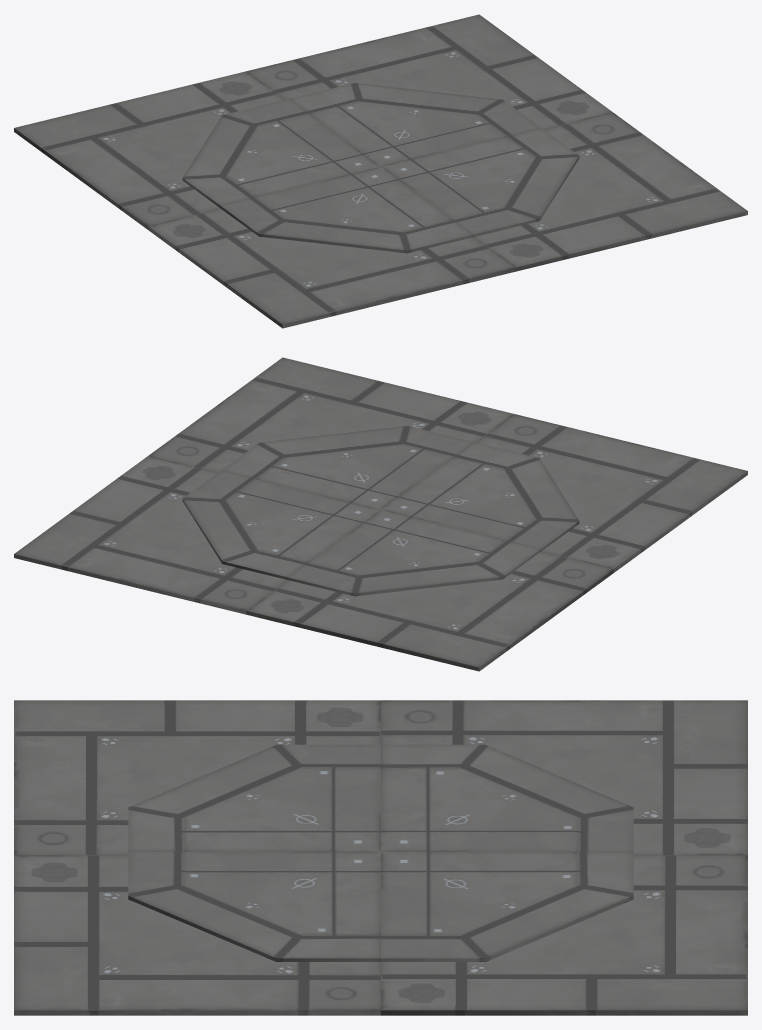
The model's file is Sci-Fi_Prefab_Var3.fbx.
3 renders of one model, top to bottom at view 1: azimuth 30°, elevation 25°; view 2: azimuth 150°, elevation 25°; view 3: azimuth 270°, elevation 25°, orthographic. The views are drawn at different scales.
Parts seen in each view (by area): view 1: ProjectRG_Environment_Sci-Fi_SquarePlatform.001, ProjectRG_Environment_Sci-Fi_SquarePlatform.002, ProjectRG_Environment_Sci-Fi_SquarePlatform.004, ProjectRG_Environment_Sci-Fi_SquarePlatform.003, ProjectRG_Environment_Sci-Fi_OctagonPlatform.013, ProjectRG_Environment_Sci-Fi_OctagonPlatform.014, ProjectRG_Environment_Sci-Fi_OctagonPlatform.016, ProjectRG_Environment_Sci-Fi_OctagonPlatform.015; view 2: ProjectRG_Environment_Sci-Fi_SquarePlatform.004, ProjectRG_Environment_Sci-Fi_SquarePlatform.003, ProjectRG_Environment_Sci-Fi_SquarePlatform.001, ProjectRG_Environment_Sci-Fi_SquarePlatform.002, ProjectRG_Environment_Sci-Fi_OctagonPlatform.016, ProjectRG_Environment_Sci-Fi_OctagonPlatform.015, ProjectRG_Environment_Sci-Fi_OctagonPlatform.013, ProjectRG_Environment_Sci-Fi_OctagonPlatform.014; view 3: ProjectRG_Environment_Sci-Fi_SquarePlatform.002, ProjectRG_Environment_Sci-Fi_SquarePlatform.003, ProjectRG_Environment_Sci-Fi_SquarePlatform.004, ProjectRG_Environment_Sci-Fi_SquarePlatform.001, ProjectRG_Environment_Sci-Fi_OctagonPlatform.014, ProjectRG_Environment_Sci-Fi_OctagonPlatform.015, ProjectRG_Environment_Sci-Fi_OctagonPlatform.013, ProjectRG_Environment_Sci-Fi_OctagonPlatform.016.
Boxes of the visible parts, bbox=[...] form: ProjectRG_Environment_Sci-Fi_SquarePlatform.001: bbox=[148, 208, 515, 328]; ProjectRG_Environment_Sci-Fi_SquarePlatform.002: bbox=[474, 113, 747, 271]; ProjectRG_Environment_Sci-Fi_SquarePlatform.004: bbox=[14, 71, 285, 229]; ProjectRG_Environment_Sci-Fi_SquarePlatform.003: bbox=[247, 14, 613, 129]; ProjectRG_Environment_Sci-Fi_OctagonPlatform.013: bbox=[220, 167, 473, 253]; ProjectRG_Environment_Sci-Fi_OctagonPlatform.014: bbox=[381, 128, 579, 236]; ProjectRG_Environment_Sci-Fi_OctagonPlatform.016: bbox=[182, 99, 380, 208]; ProjectRG_Environment_Sci-Fi_OctagonPlatform.015: bbox=[289, 83, 540, 166]; ProjectRG_Environment_Sci-Fi_SquarePlatform.004: bbox=[246, 551, 613, 671]; ProjectRG_Environment_Sci-Fi_SquarePlatform.003: bbox=[14, 456, 287, 614]; ProjectRG_Environment_Sci-Fi_SquarePlatform.001: bbox=[476, 414, 747, 572]; ProjectRG_Environment_Sci-Fi_SquarePlatform.002: bbox=[148, 357, 514, 472]; ProjectRG_Environment_Sci-Fi_OctagonPlatform.016: bbox=[288, 510, 541, 596]; ProjectRG_Environment_Sci-Fi_OctagonPlatform.015: bbox=[182, 471, 380, 579]; ProjectRG_Environment_Sci-Fi_OctagonPlatform.013: bbox=[381, 442, 579, 551]; ProjectRG_Environment_Sci-Fi_OctagonPlatform.014: bbox=[221, 426, 472, 509]; ProjectRG_Environment_Sci-Fi_SquarePlatform.002: bbox=[14, 855, 380, 1015]; ProjectRG_Environment_Sci-Fi_SquarePlatform.003: bbox=[381, 855, 747, 1015]; ProjectRG_Environment_Sci-Fi_SquarePlatform.004: bbox=[381, 700, 747, 855]; ProjectRG_Environment_Sci-Fi_SquarePlatform.001: bbox=[14, 700, 380, 855]; ProjectRG_Environment_Sci-Fi_OctagonPlatform.014: bbox=[128, 851, 380, 961]; ProjectRG_Environment_Sci-Fi_OctagonPlatform.015: bbox=[381, 851, 633, 961]; ProjectRG_Environment_Sci-Fi_OctagonPlatform.013: bbox=[128, 744, 380, 851]; ProjectRG_Environment_Sci-Fi_OctagonPlatform.016: bbox=[381, 744, 633, 851].
Bounding box in the file's own units: 5087 × 69.4 × 5087.
